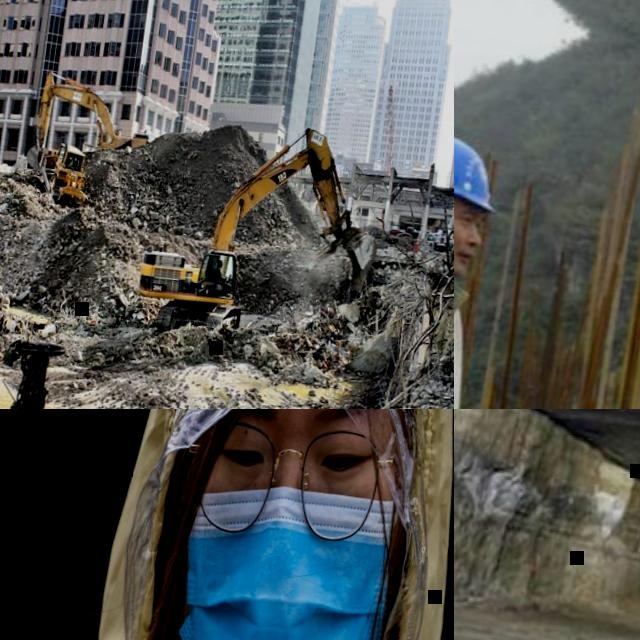Hardhat: (454, 125, 508, 213)
Mask: (153, 474, 405, 640)
NO-Hardhat: (219, 260, 224, 266)
NO-Mask: (454, 232, 478, 278)
Person: (30, 409, 454, 640), (454, 115, 506, 409), (216, 259, 229, 281), (68, 156, 77, 168)
Safety Vest: (68, 160, 74, 168)
machinery: (130, 105, 392, 363), (23, 70, 157, 189), (37, 142, 95, 209), (437, 228, 449, 248)
